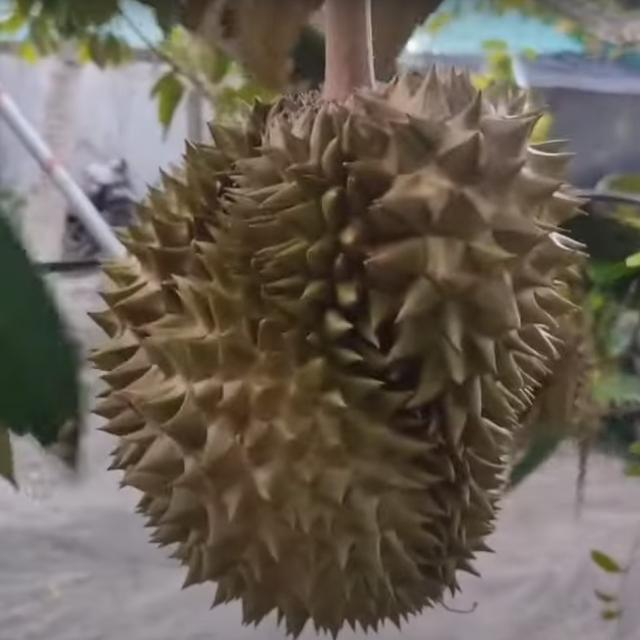mature: (87, 70, 587, 638)
